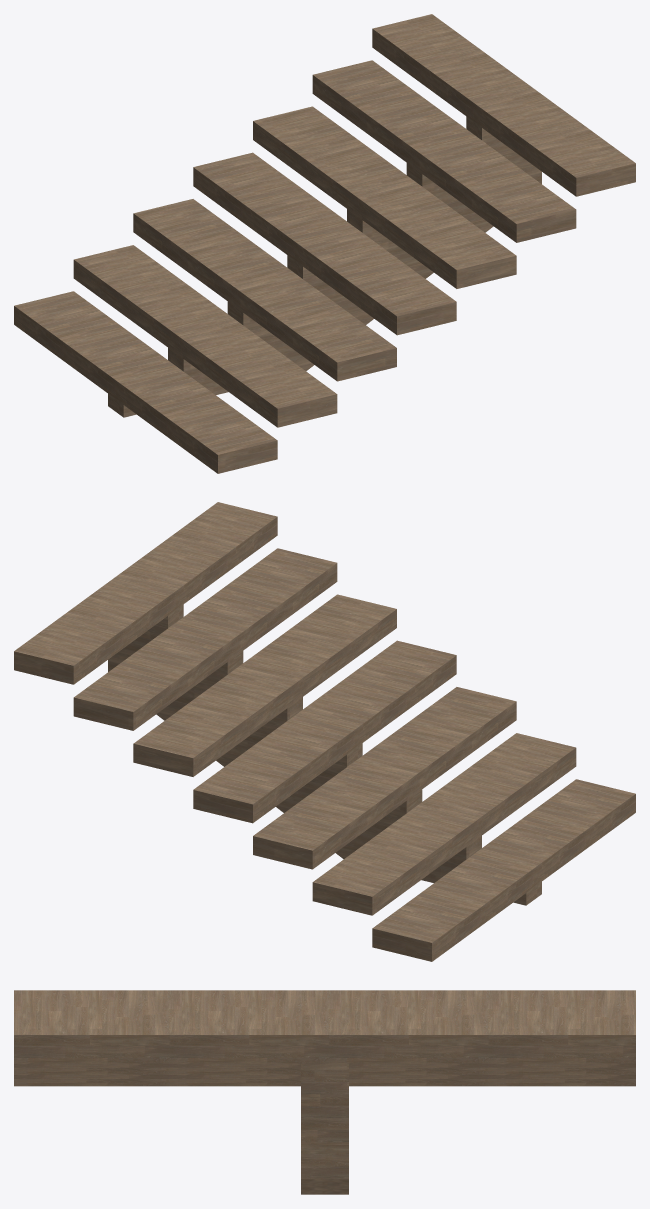
The model's file is Soupnewstairs004.glb.
The picture shows the model from 3 angles, top to bottom: view 1: azimuth 30°, elevation 25°; view 2: azimuth 150°, elevation 25°; view 3: azimuth 270°, elevation 25°; orthographic projection. The views are drawn at different scales.
Parts seen in each view (by area): view 1: Soupnewstairs004_high_1; view 2: Soupnewstairs004_high_1; view 3: Soupnewstairs004_high_1.
Part boxes in pixels (x1,y1,x2,y2): Soupnewstairs004_high_1: (14, 14, 635, 473); Soupnewstairs004_high_1: (14, 502, 635, 961); Soupnewstairs004_high_1: (14, 990, 635, 1194).
Size of the model in its own units: 2.6 by 1.32 by 2.2.
1 material, 1 textured.
